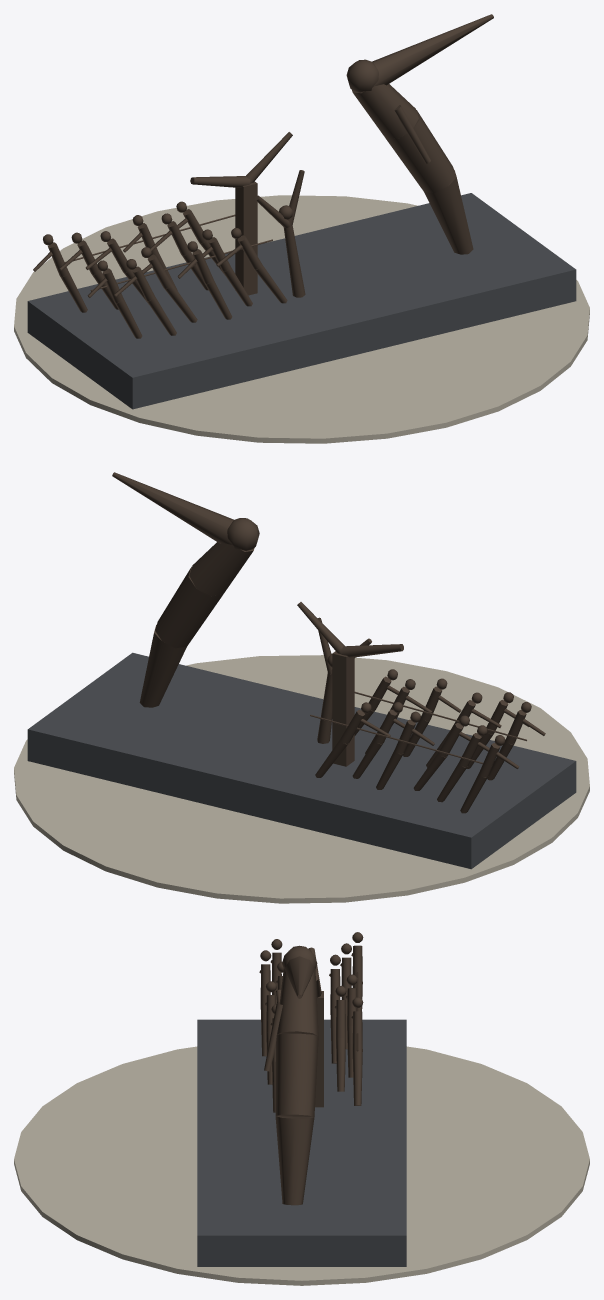
File: slavernijmonument.glb
3 views of the same model, one above another, from view 1: azimuth 30°, elevation 25°; view 2: azimuth 150°, elevation 25°; view 3: azimuth 270°, elevation 25° (orthographic).
Parts seen in each view (by area): view 1: slavernijmonument; view 2: slavernijmonument; view 3: slavernijmonument.
Part boxes in pixels (box(x1,y1,x2,y2)): slavernijmonument: box(14, 14, 589, 443); slavernijmonument: box(14, 472, 589, 903); slavernijmonument: box(14, 932, 589, 1285).
Size of the model in its own units: 12.4 by 6.22 by 12.4.
